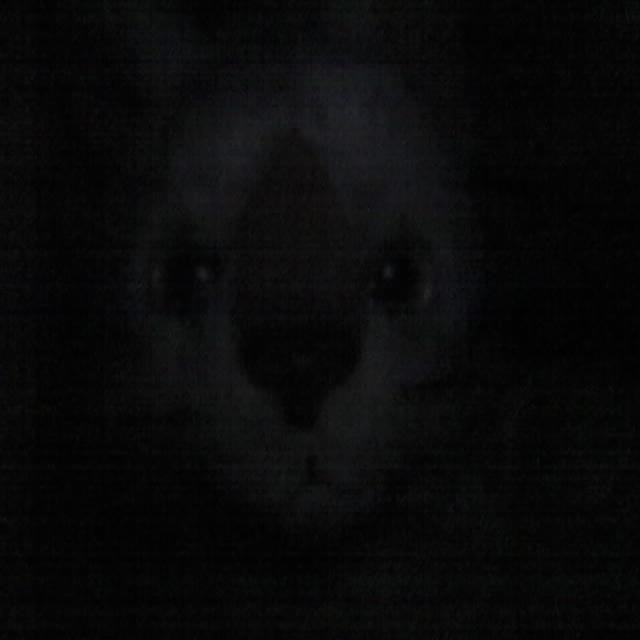Cat: (45, 0, 592, 640)
